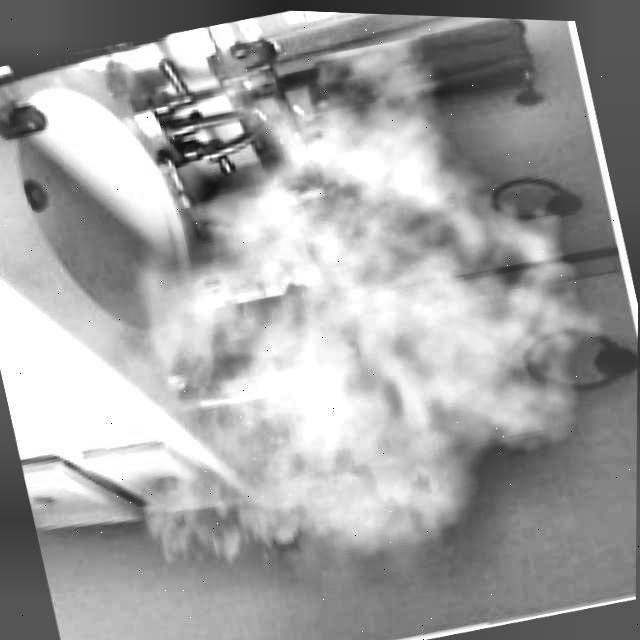Smoke: (0, 15, 637, 640)
